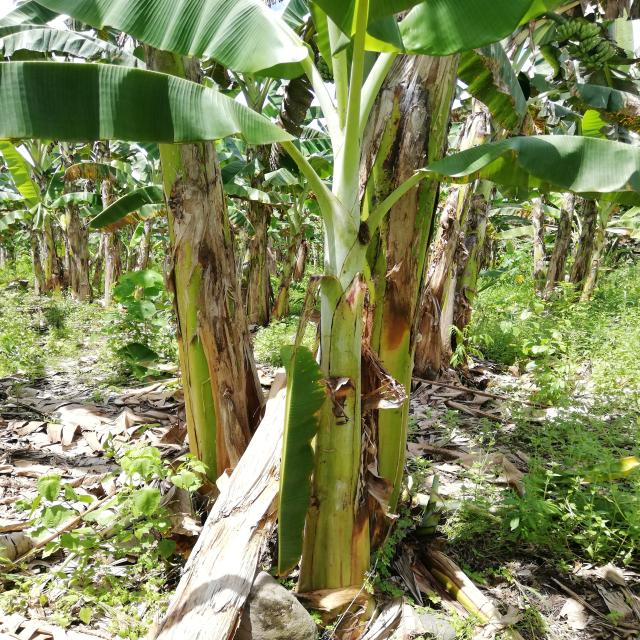Banana-plant: (141, 38, 260, 512), (351, 40, 461, 512), (300, 145, 370, 600)
